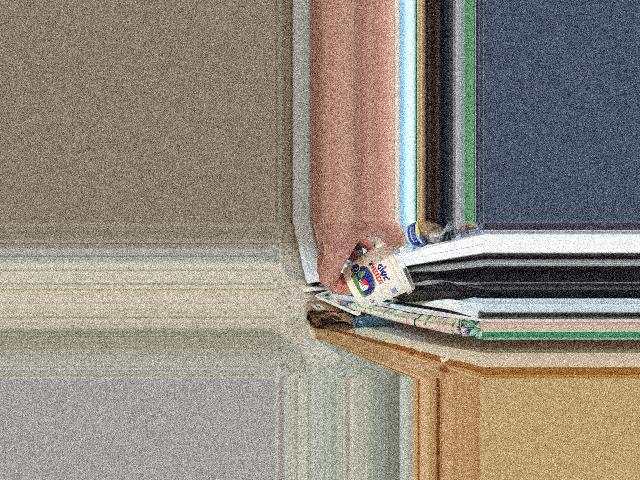cotage: (346, 245, 416, 306)
